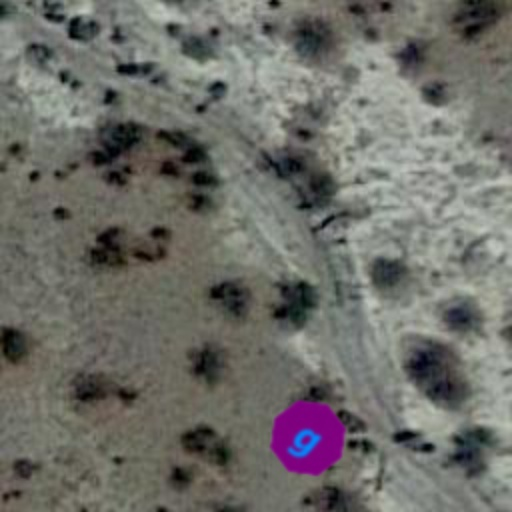octagon: (254, 384, 362, 492)
